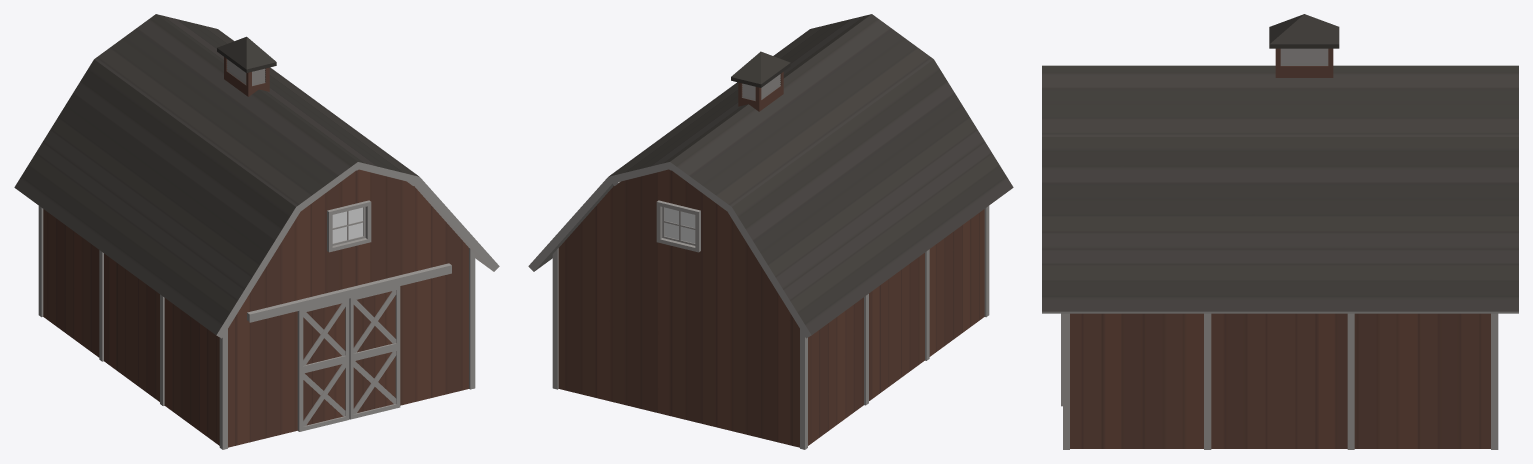
File: SM_Bldg_Farm_Barn_03.fbx
The picture shows the model from 3 angles, left to right: view 1: azimuth 30°, elevation 25°; view 2: azimuth 150°, elevation 25°; view 3: azimuth 270°, elevation 25°; orthographic projection. The views are drawn at different scales.
Parts seen in each view (by area): view 1: SM_Bldg_Farm_Barn_03, SM_Bldg_Farm_Barn_03_Glass; view 2: SM_Bldg_Farm_Barn_03, SM_Bldg_Farm_Barn_03_Glass; view 3: SM_Bldg_Farm_Barn_03.
Boxes of the visible parts, <box> form: SM_Bldg_Farm_Barn_03: <box>14,14,499,449</box>; SM_Bldg_Farm_Barn_03_Glass: <box>332,207,363,243</box>; SM_Bldg_Farm_Barn_03: <box>528,14,1013,449</box>; SM_Bldg_Farm_Barn_03_Glass: <box>664,207,695,243</box>; SM_Bldg_Farm_Barn_03: <box>1042,14,1518,449</box>.
Bounding box in the file's own units: 808 × 838 × 997.
